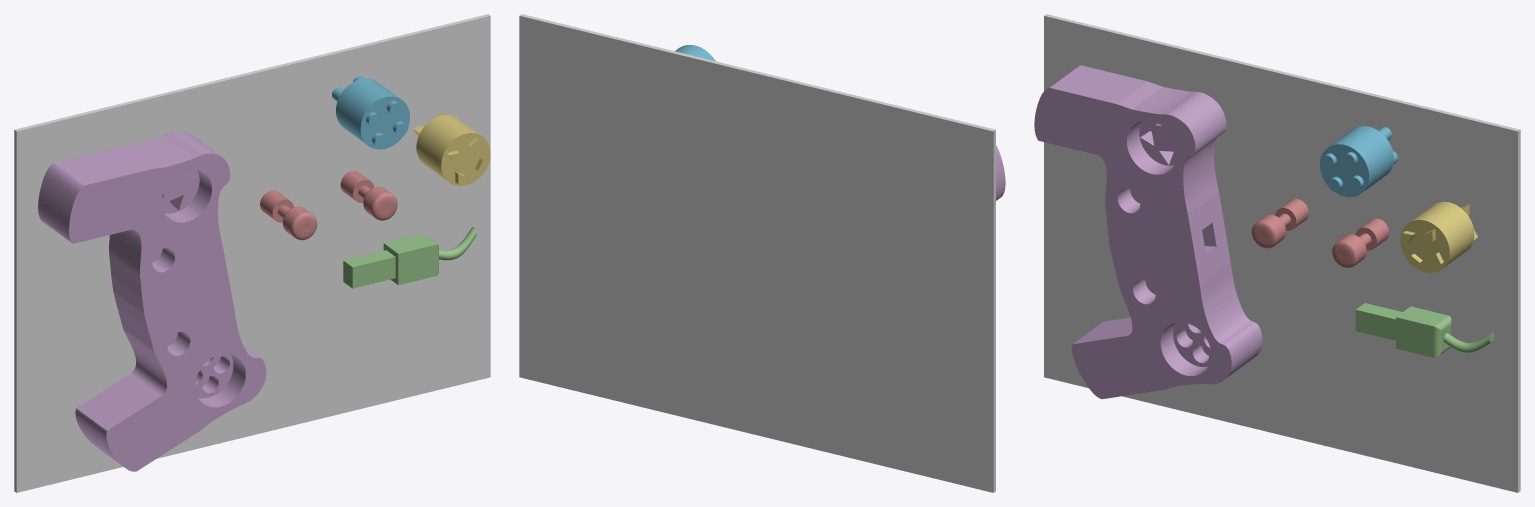
Rendered from pickup_layout.glb.
3 views of the same model, side by side, from view 1: azimuth 30°, elevation 25°; view 2: azimuth 150°, elevation 25°; view 3: azimuth 330°, elevation 25° (orthographic).
Parts seen in each view (by area): view 1: world, 3.obj, 4.obj, 2.obj, 1.obj, 5.obj, 0.obj; view 2: world; view 3: world, 3.obj, 4.obj, 2.obj, 1.obj, 0.obj, 5.obj.
Boxes of the visible parts, x1,y1,x2,y2 form: world: (14,14,490,492); 3.obj: (38,131,266,471); 4.obj: (343,227,476,288); 2.obj: (332,75,409,149); 1.obj: (413,112,490,185); 5.obj: (260,190,317,240); 0.obj: (340,170,397,220); world: (519,14,995,492); world: (1044,14,1520,492); 3.obj: (1034,65,1262,399); 4.obj: (1355,303,1494,357); 2.obj: (1320,126,1397,197); 1.obj: (1400,201,1477,272); 0.obj: (1332,218,1389,268); 5.obj: (1251,198,1308,248).
Size of the model in its own units: 22.09 by 16.1 by 3.2.
